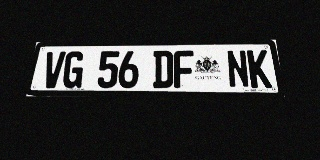5: (97, 51, 119, 88)
6: (118, 51, 139, 88)
D: (153, 51, 173, 88)
F: (174, 50, 195, 88)
G: (61, 51, 85, 88)
K: (247, 50, 272, 88)
N: (226, 50, 250, 88)
V: (41, 51, 66, 88)
